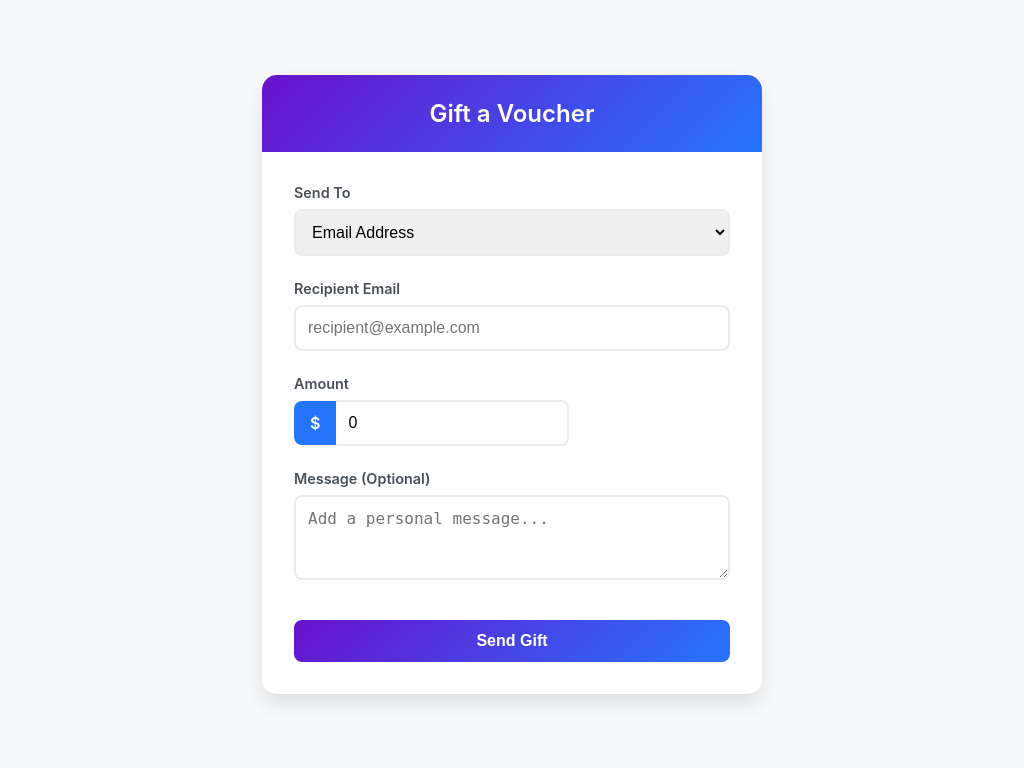
VoucherForm › should submit high-value voucher after confirmation
Fill out the form with high value
Type "test@example.com" into the field labelled "Recipient Email" at point(512, 328), box [294,304,730,350]
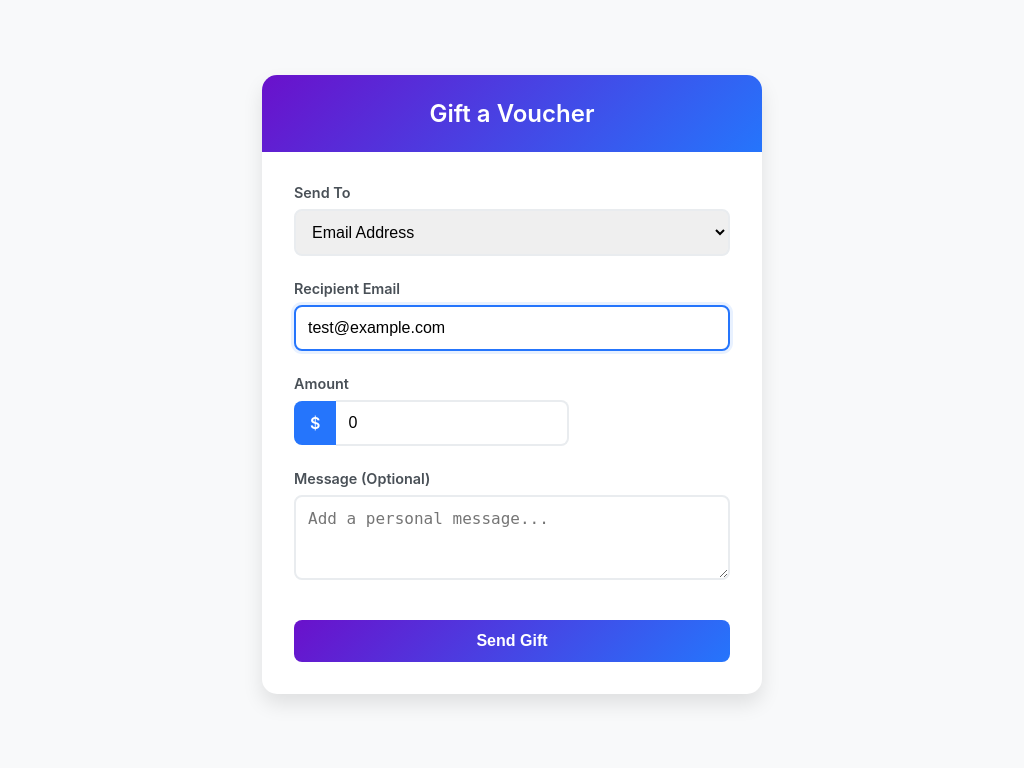
Type "2000" into the number field labelled "Amount" at point(453, 422), box [336,400,569,446]
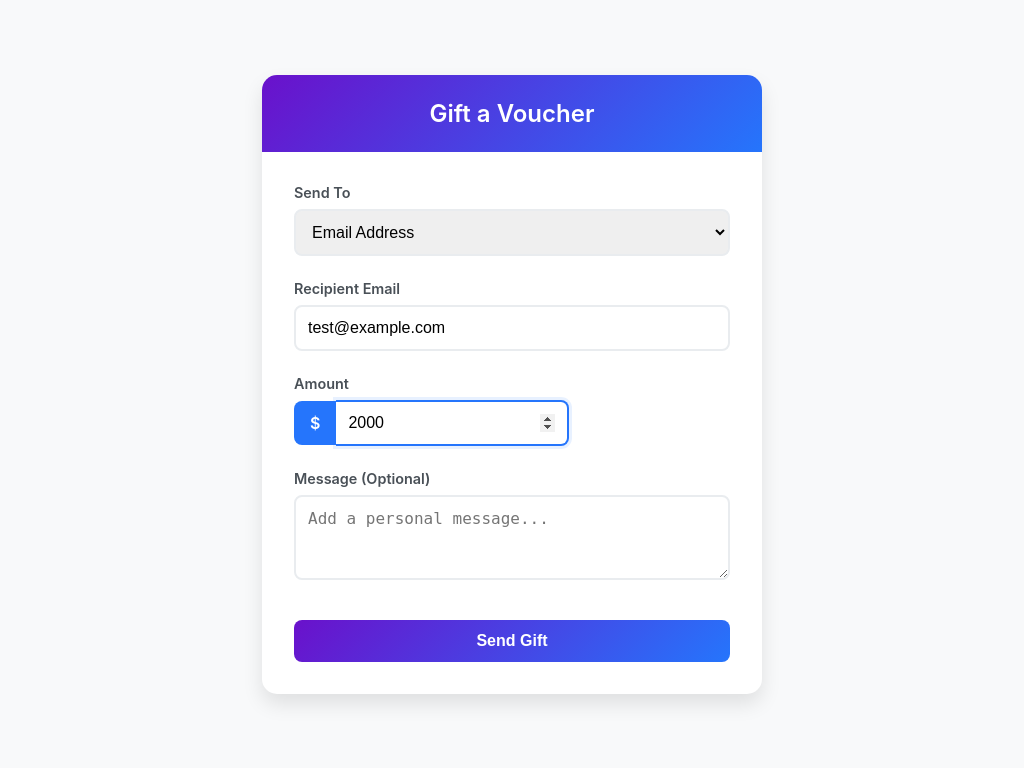
Submit the form
Click the button "Send Gift" at point(512, 640), box [294,620,730,662]
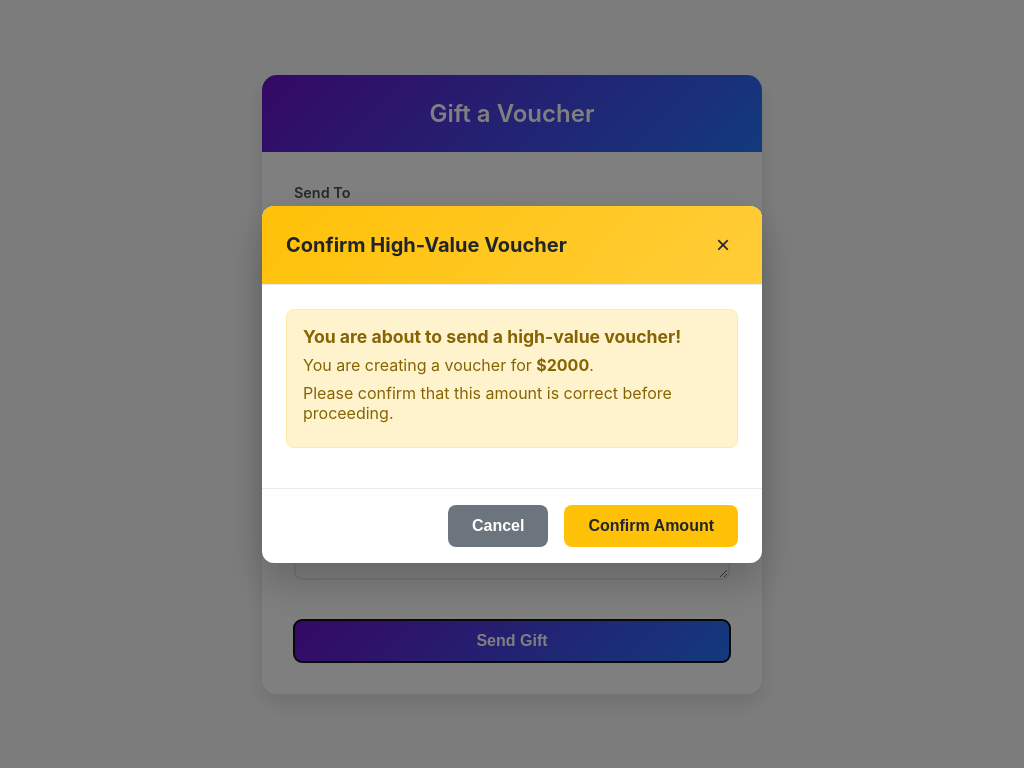
Expected: the heading "Confirm High-Value Voucher" is shown, [286,232,567,256]
Click confirm button
Click the button "Confirm Amount" at point(651, 526), box [564,504,738,546]
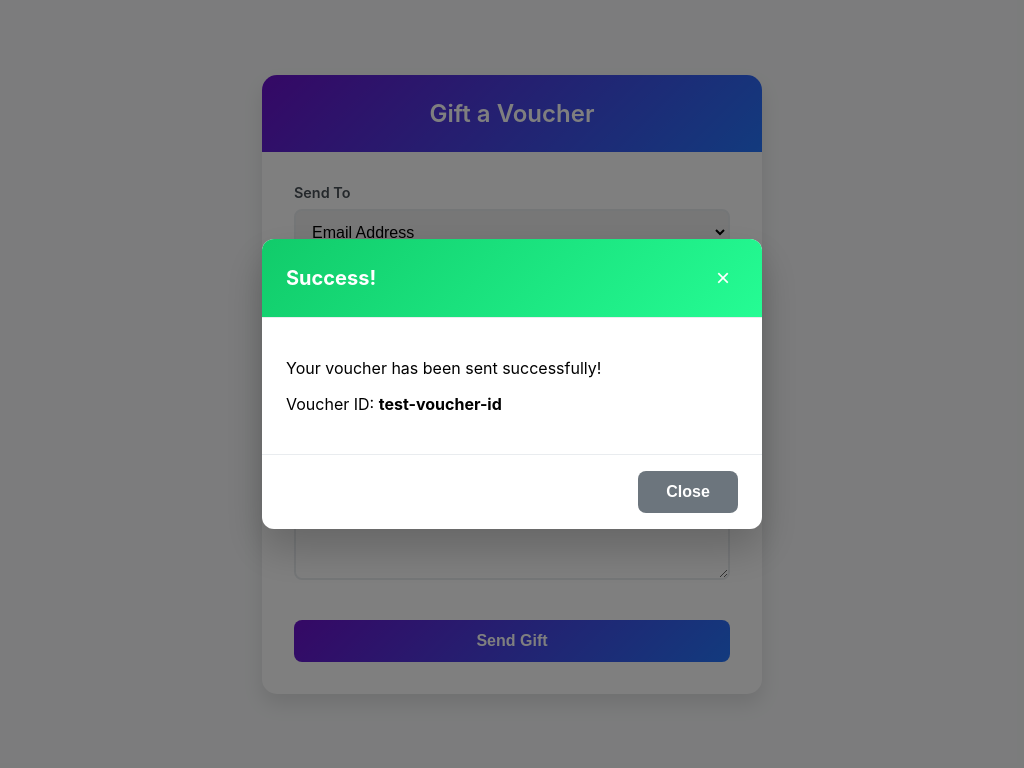
Expected: the heading "Success!" is shown, [286,266,376,290]
